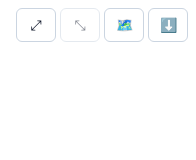
Scenario: DiagramToolbar › keeps the accessible names but folds export into a menu when compact
The image size is (196, 160).
Check: the button named "Expand all" is shown, box [16,8,56,42]
Check: the button named "Collapse all" is disabled, box [60,8,100,42]
Step 1. Click the button named "Export" → (168, 25), box [148,8,188,42]
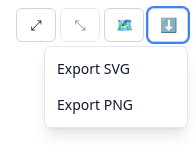
Step 2. Click the menu item "Export PNG" → (116, 105), box [45,87,187,123]
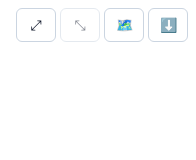
Check: the menu is gone
